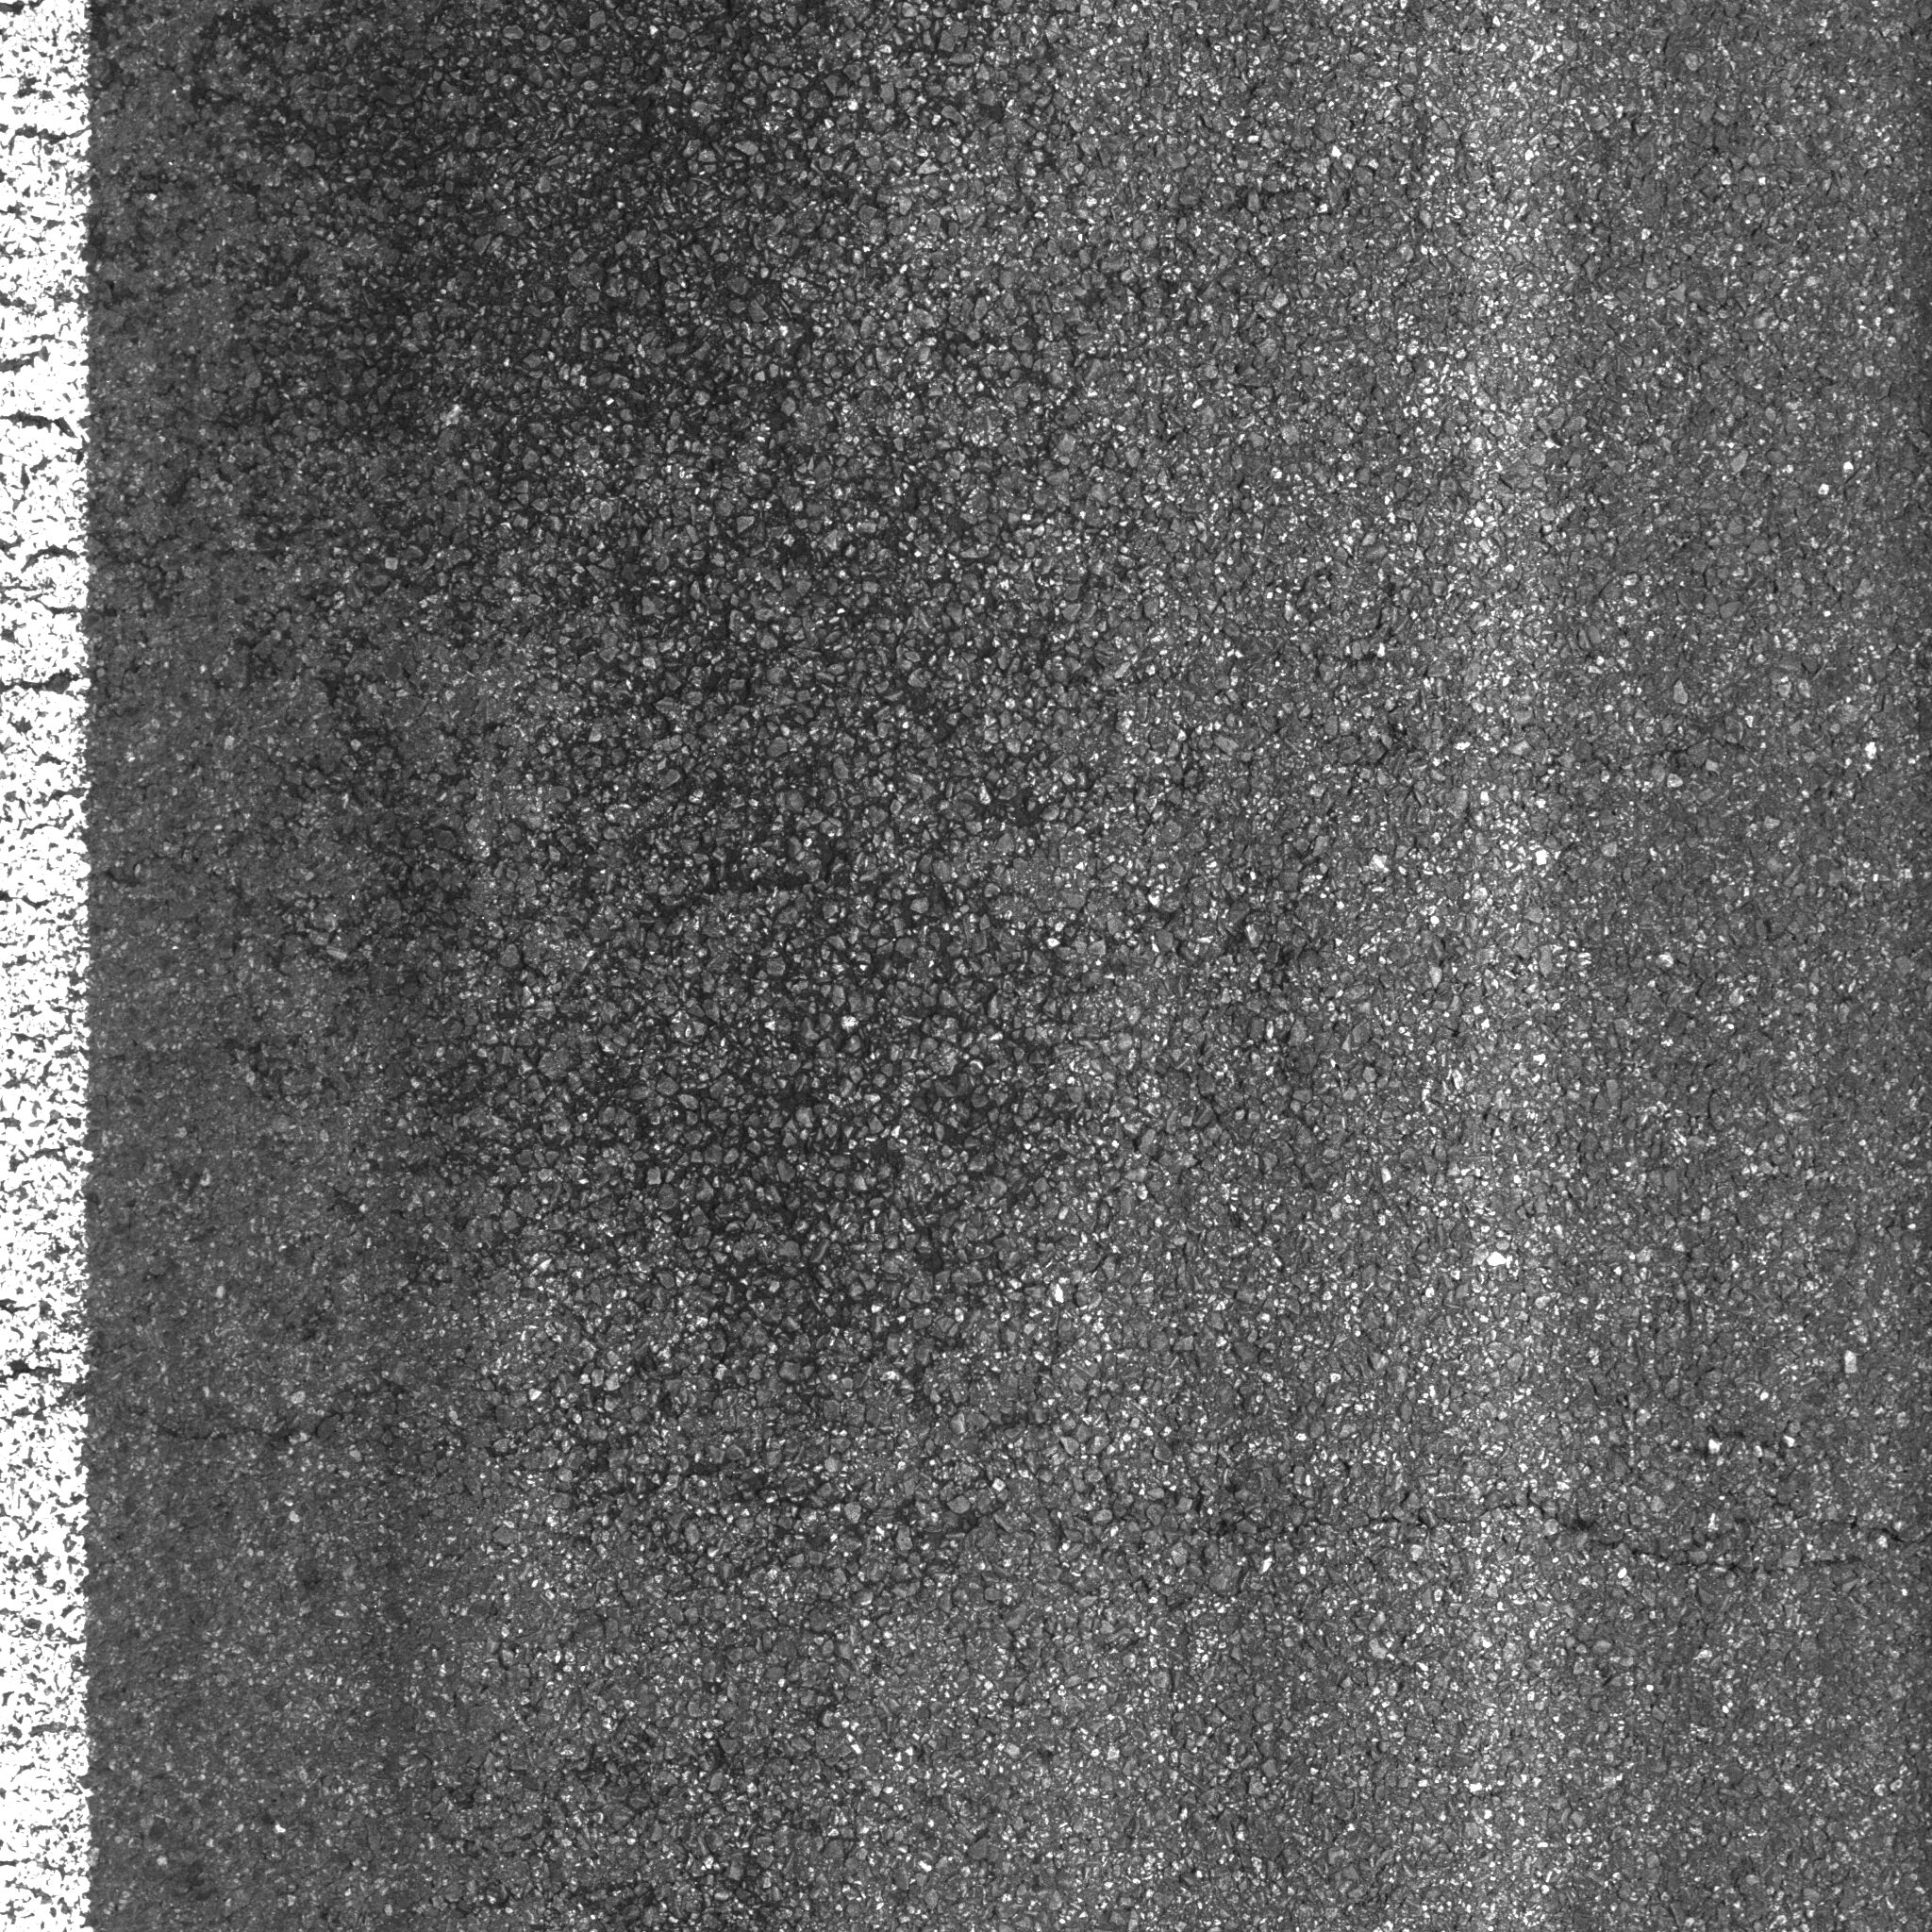transeverse: (129, 1371, 1904, 1601)
